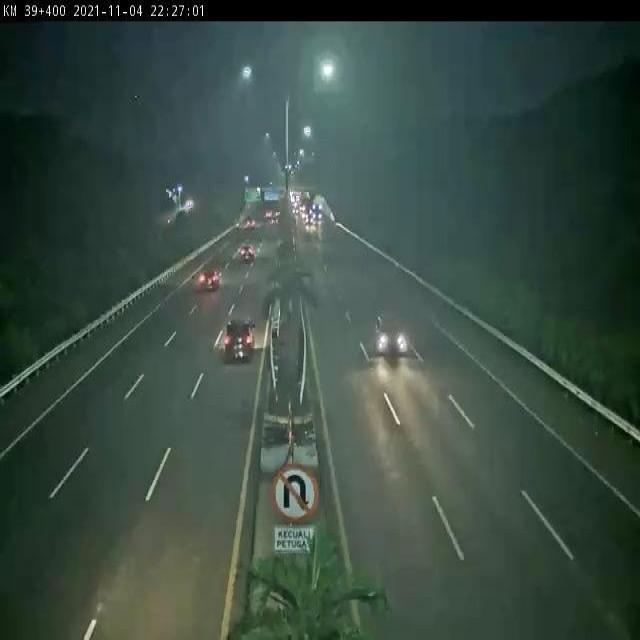car: (222, 316, 257, 364), (374, 308, 408, 353), (197, 264, 222, 292)
